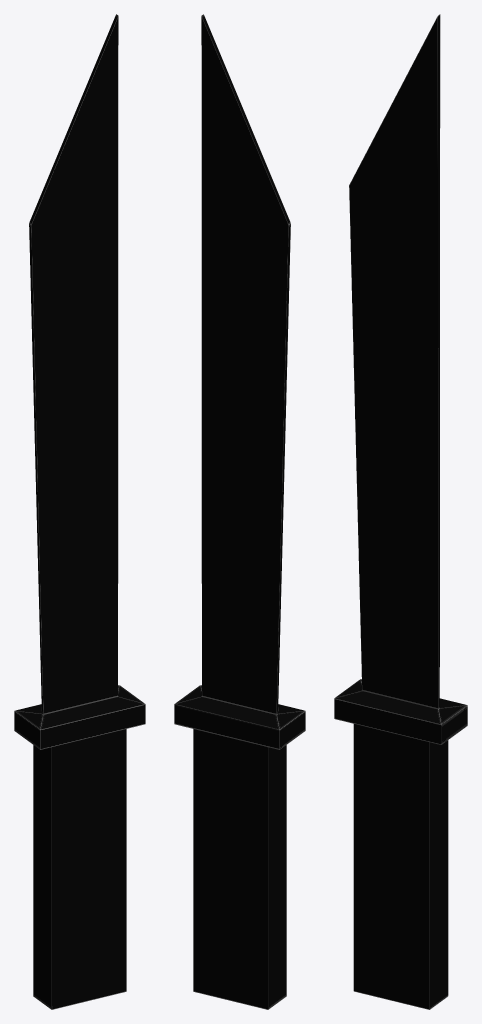
File: cuhcillo.fbx
3 renders of one model, left to right at view 1: azimuth 30°, elevation 25°; view 2: azimuth 150°, elevation 25°; view 3: azimuth 330°, elevation 25°, orthographic.
Visible parts, largest first — view 1: pCube1; view 2: pCube1; view 3: pCube1.
Boxes of the visible parts, <box> form: pCube1: <box>14,14,145,1009</box>; pCube1: <box>174,14,305,1009</box>; pCube1: <box>334,14,467,1009</box>.
Bounding box in the file's own units: 1.41 × 12.39 × 0.6003.
